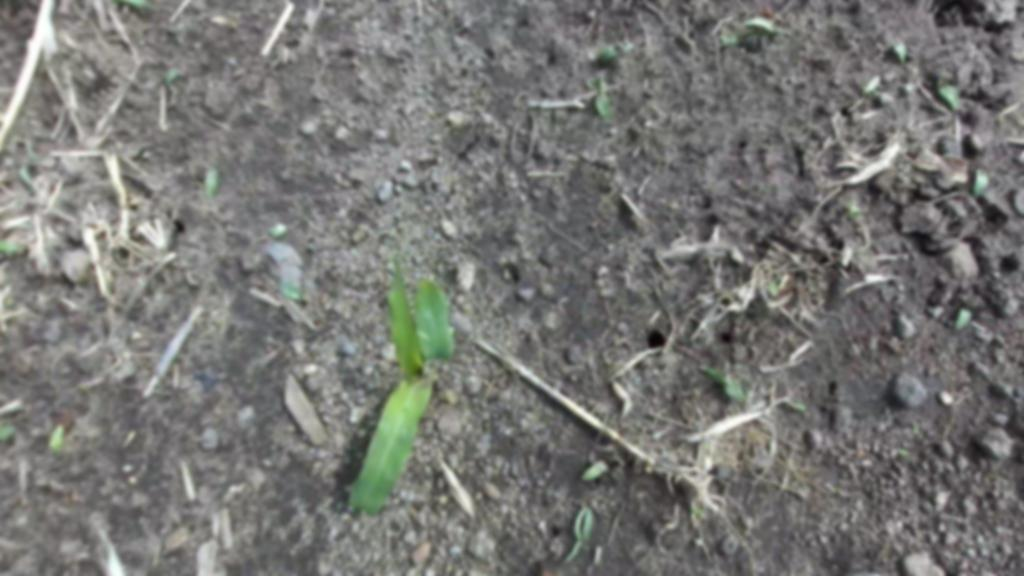BroWeed: (697, 356, 748, 406), (926, 73, 977, 120), (186, 149, 230, 200), (563, 504, 598, 568), (579, 446, 627, 492), (0, 131, 48, 165), (743, 10, 787, 38), (879, 32, 915, 66), (13, 161, 47, 194), (594, 36, 628, 67), (591, 72, 613, 119), (717, 23, 755, 50), (276, 275, 309, 304), (45, 422, 67, 458), (857, 72, 886, 98), (158, 61, 184, 86), (760, 276, 783, 300), (972, 168, 989, 199), (953, 306, 973, 332), (0, 237, 27, 255), (211, 14, 241, 30), (267, 220, 290, 240), (222, 6, 246, 25), (844, 200, 865, 220), (167, 82, 183, 107), (220, 49, 239, 68), (0, 420, 17, 441), (112, 0, 151, 9), (925, 305, 945, 318), (584, 75, 598, 93), (866, 87, 881, 103), (632, 455, 643, 473), (17, 220, 34, 231), (690, 507, 705, 516), (642, 465, 655, 475), (139, 151, 153, 159), (898, 448, 910, 457), (344, 249, 358, 256), (795, 403, 806, 411)
Maize: (343, 226, 472, 526)
